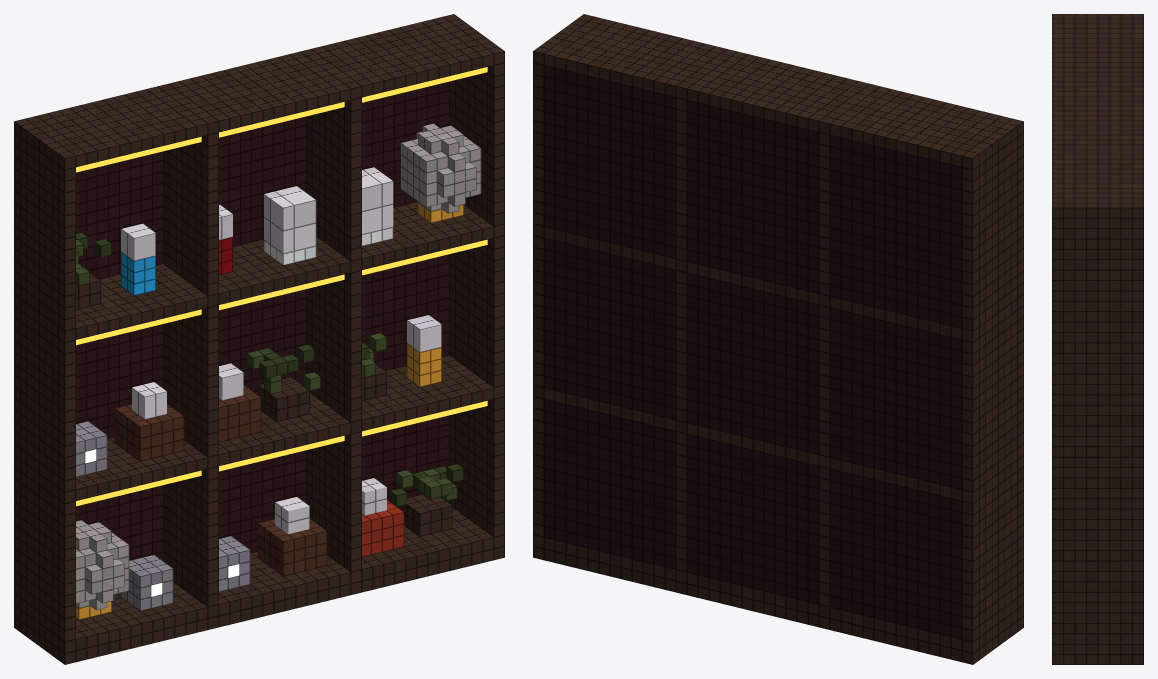
The model's file is collectibles_shelf.glb.
3 renders of one model, left to right at view 1: azimuth 30°, elevation 25°; view 2: azimuth 150°, elevation 25°; view 3: azimuth 270°, elevation 25°, orthographic. The views are drawn at different scales.
Visible parts, largest first — view 1: collectibles_shelf; view 2: collectibles_shelf; view 3: collectibles_shelf.
Part boxes in pixels (bbox=[...]): collectibles_shelf: bbox=[14, 14, 504, 664]; collectibles_shelf: bbox=[533, 14, 1023, 664]; collectibles_shelf: bbox=[1052, 14, 1143, 664].
Size of the model in its own units: 2 by 2.2 by 0.4.
15 materials, 13 textured.
